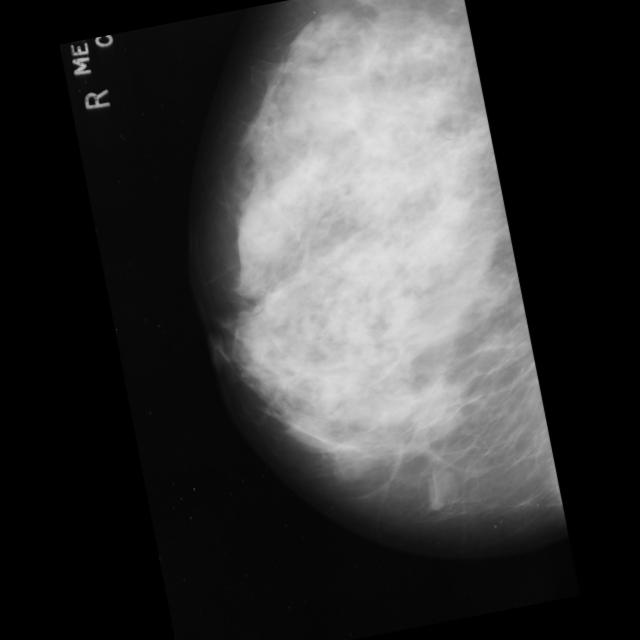CALC: (417, 0, 581, 107)
